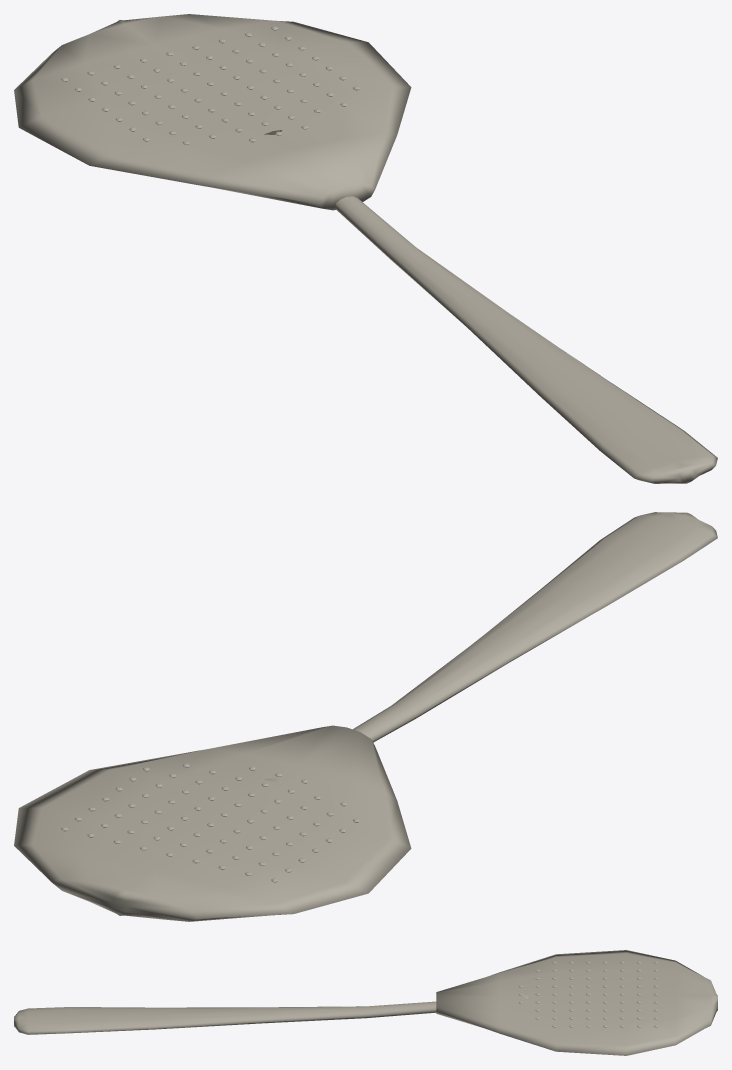
File: cutlery_utensils__drawer_rice_paddle.glb
The picture shows the model from 3 angles, top to bottom: view 1: azimuth 30°, elevation 25°; view 2: azimuth 150°, elevation 25°; view 3: azimuth 270°, elevation 25°; orthographic projection. The views are drawn at different scales.
Visible parts, largest first — view 1: body; view 2: body; view 3: body.
Boxes of the visible parts, x1,y1,x2,y2 form: body: [14, 14, 717, 483]; body: [14, 512, 717, 921]; body: [14, 950, 717, 1055].
Size of the model in its own units: 0.073 by 0.0104 by 0.205.
Materials: 1 (1 with a texture image).
